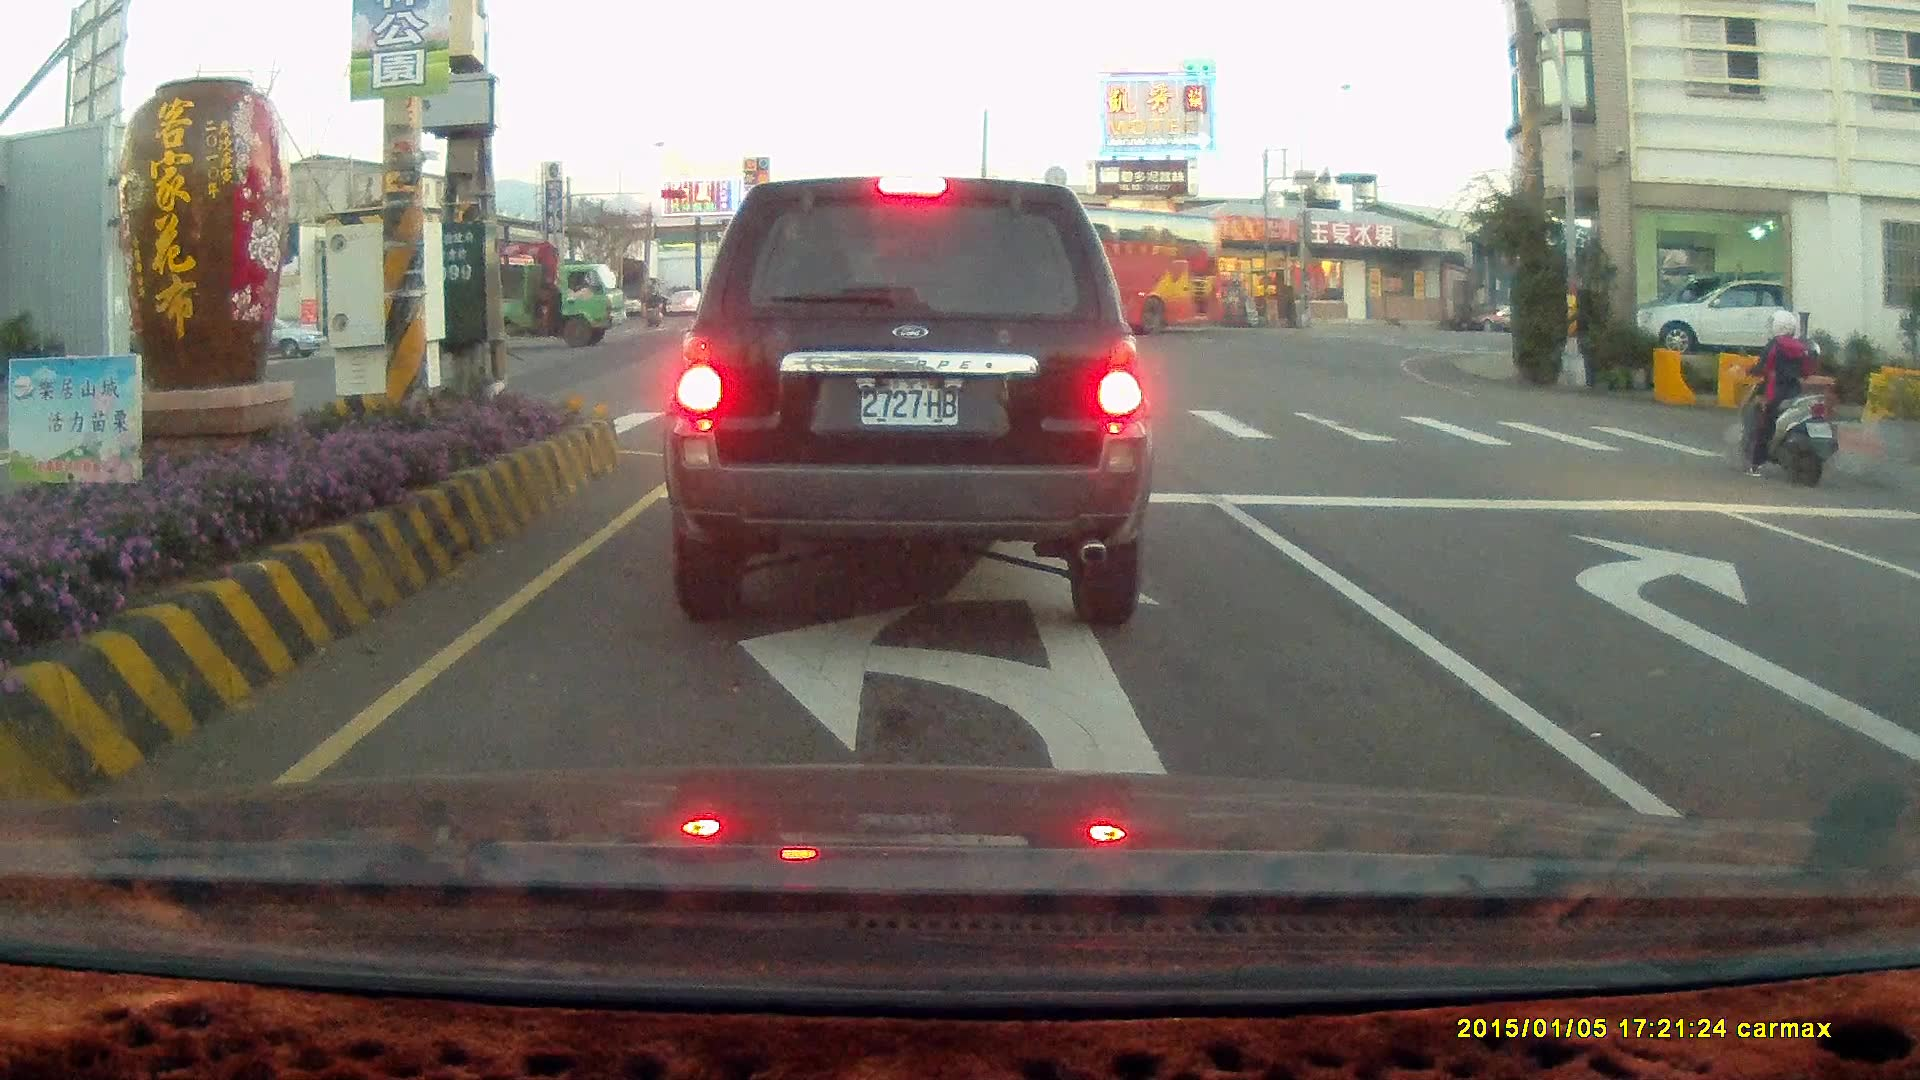rider: (1726, 304, 1839, 486), (642, 288, 663, 325)
vehicle: (660, 173, 1155, 630), (906, 208, 1236, 338), (1626, 275, 1831, 355), (500, 254, 629, 348), (1642, 275, 1784, 356), (1896, 493, 1920, 836), (1883, 528, 1920, 690)
